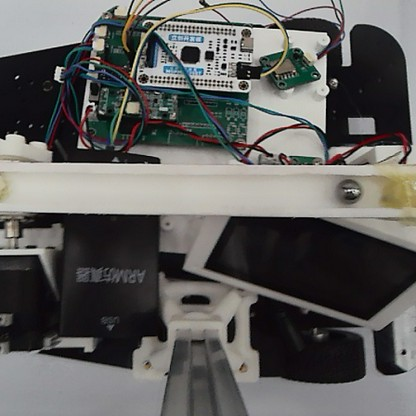ironball: (332, 178, 362, 204)
